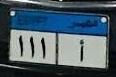1: (38, 36, 48, 58), (28, 36, 37, 59), (18, 34, 26, 57)
alif: (76, 37, 86, 63)
